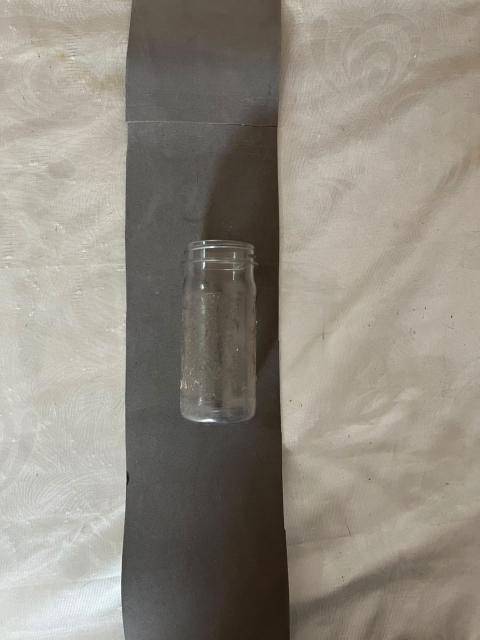PET: (119, 196, 363, 511)
